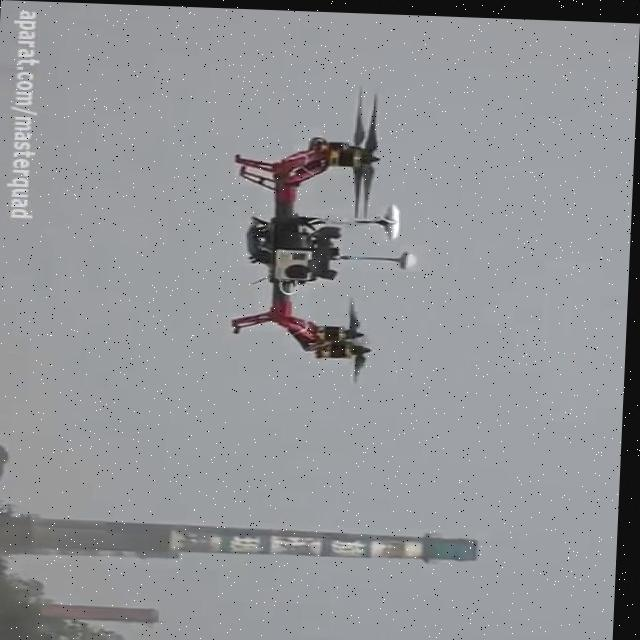drone: (220, 77, 429, 383)
